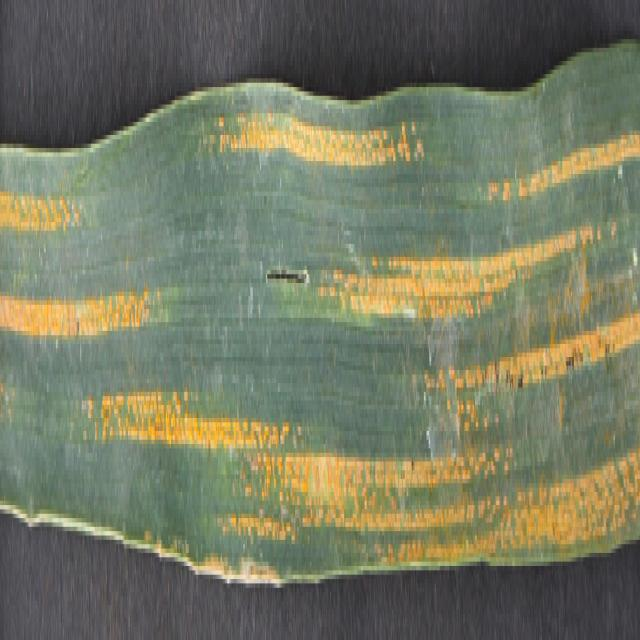leaf rust: (0, 69, 640, 548)
